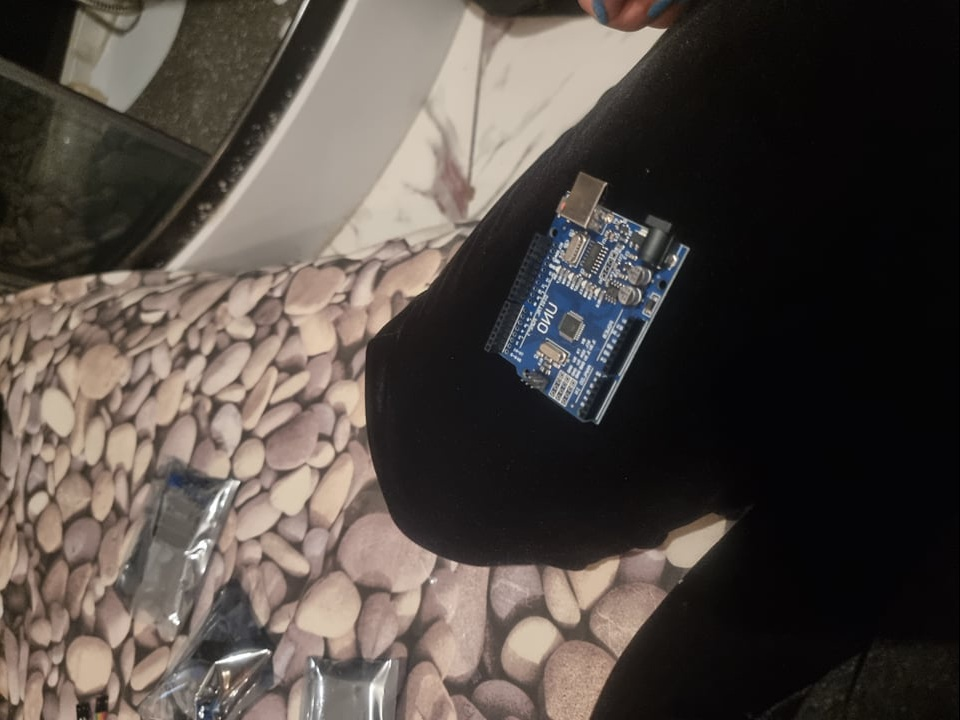UNO R3: (485, 170, 695, 425)
